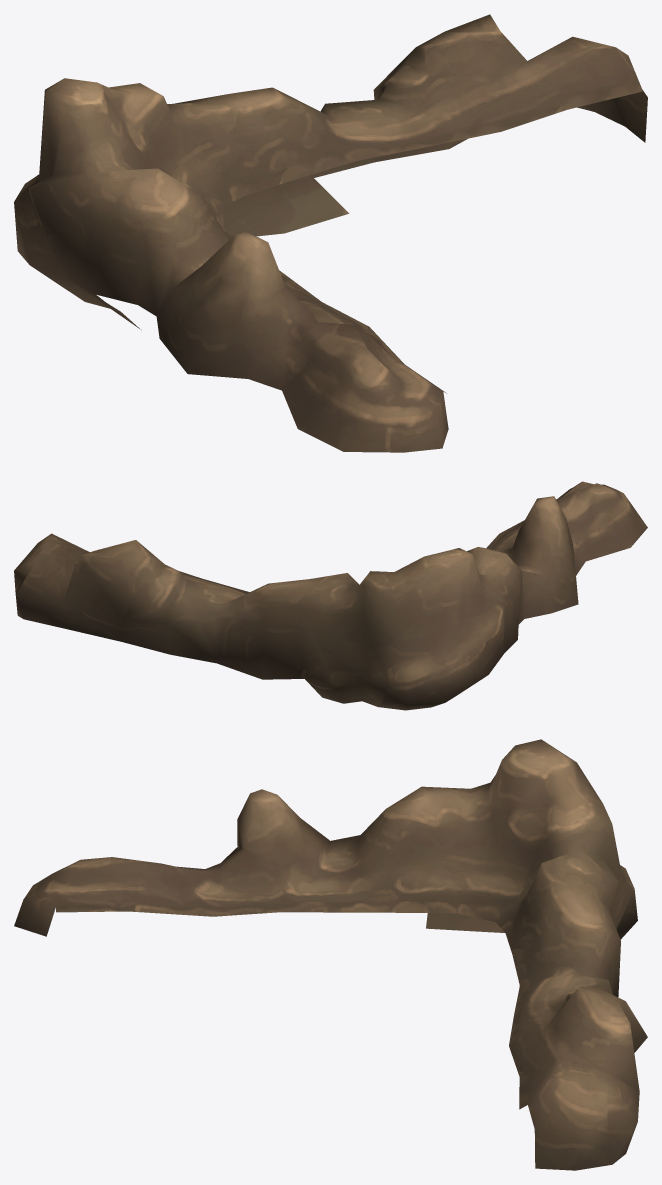
The model's file is dm_rock_02.fbx.
3 views of the same model, one above another, from view 1: azimuth 30°, elevation 25°; view 2: azimuth 150°, elevation 25°; view 3: azimuth 270°, elevation 25° (orthographic). The views are drawn at different scales.
Visible parts, largest first — view 1: dm_rock_02; view 2: dm_rock_02; view 3: dm_rock_02.
Boxes of the visible parts, left/top/right/bottom form: dm_rock_02: left=14, top=14, right=647, bottom=452; dm_rock_02: left=14, top=481, right=647, bottom=710; dm_rock_02: left=14, top=739, right=647, bottom=1170.
Bounding box in the file's own units: 2.75 × 0.9229 × 2.69.
